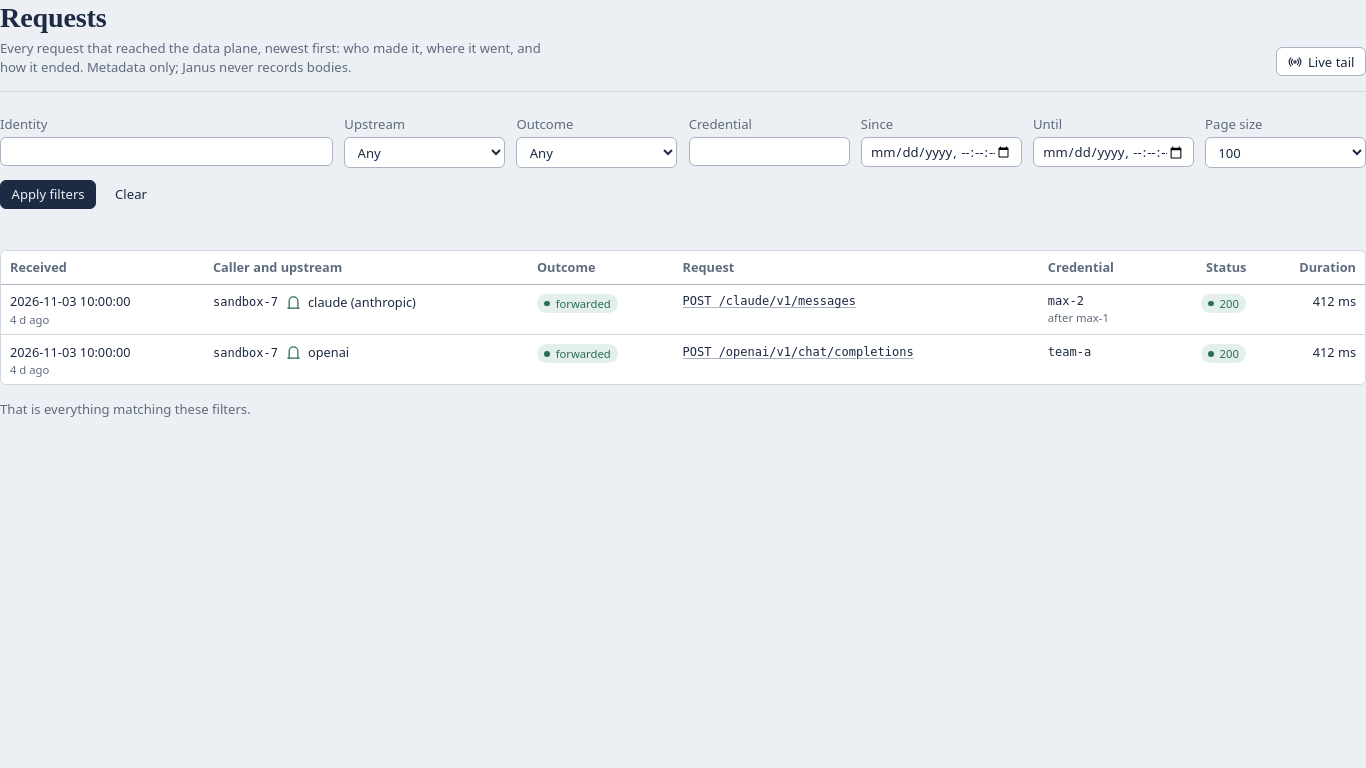
Test: upstream instances › shows a request on its instance, what it failed over from, and filters by instance
Check: the text "after max-1" is shown, box [1048,310,1109,325]
Check: the text "openai" is shown, box [308,343,349,362]
Click the text "claude (anthropic)". click: (362, 302)
box: [308,293,416,312]
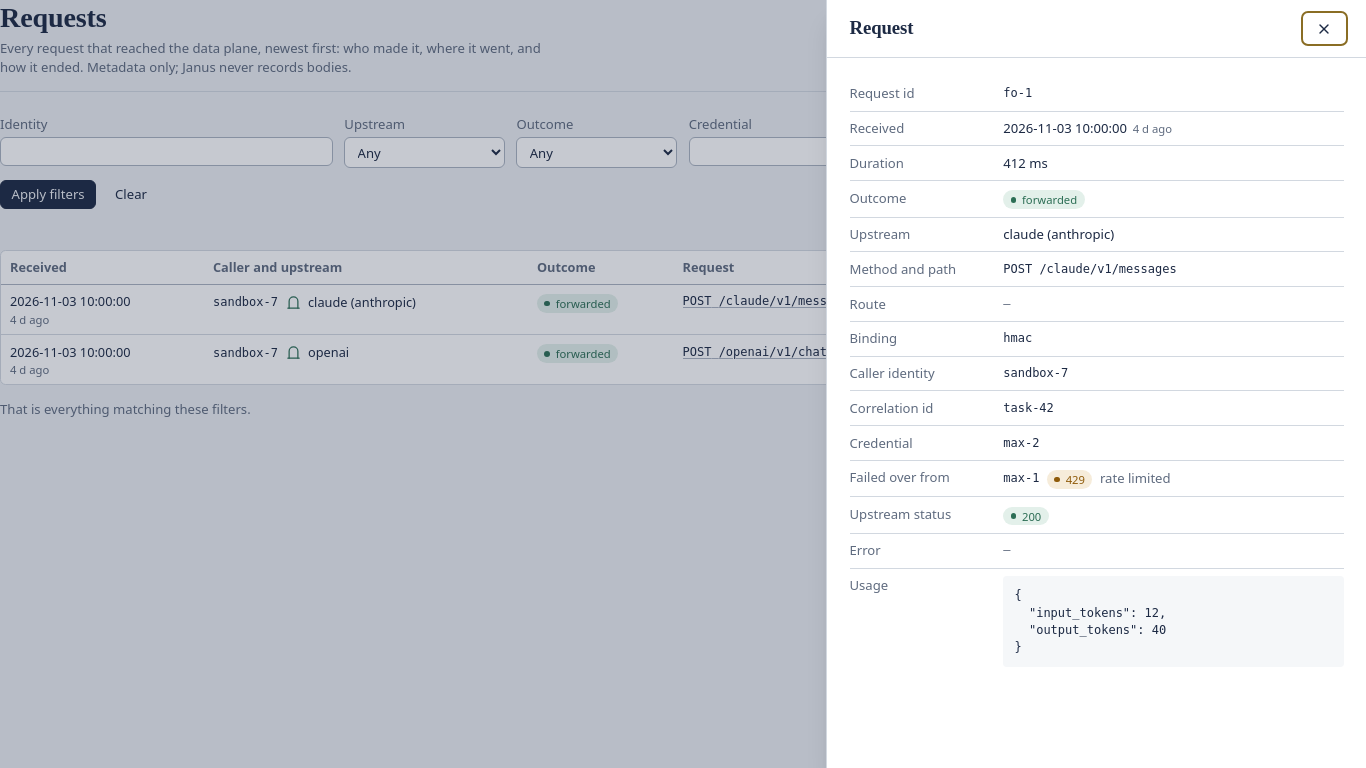
Check: the text "max-1" is shown, box [1003,470,1039,487]
Check: the text "429" is shown, box [1047,470,1092,489]
Check: the text "rate limited" is shown, box [1100,469,1170,488]
